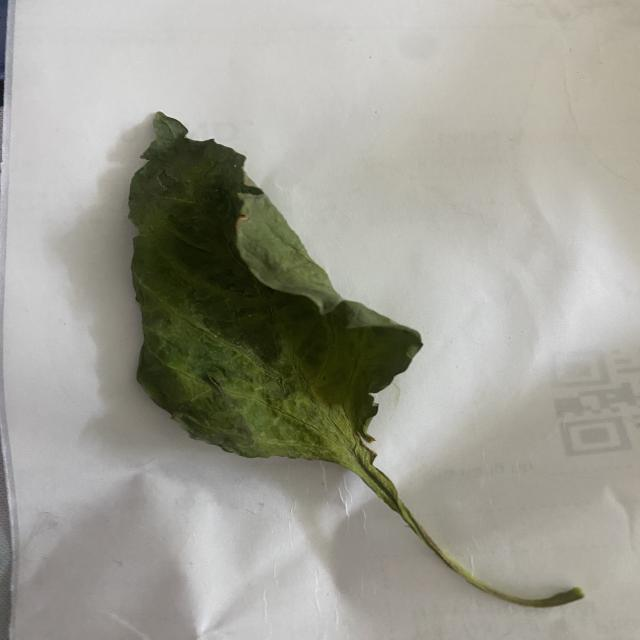Leaf: (127, 112, 423, 461)
